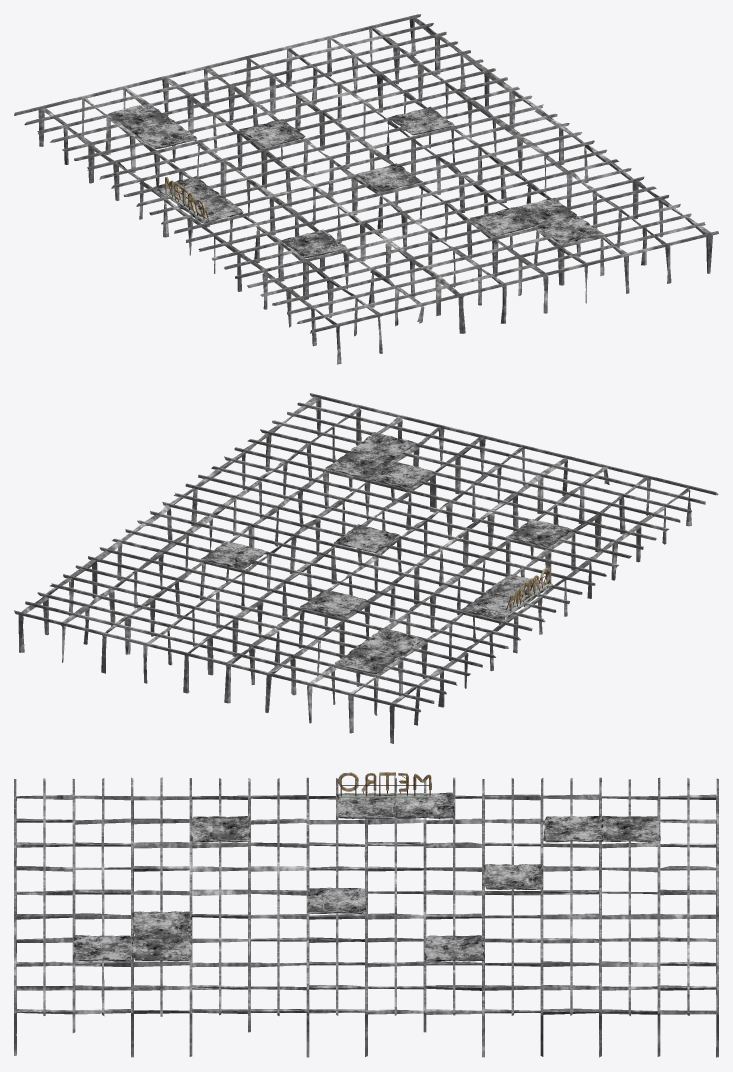
File: SM_RuinedAirportShop.glb
3 views of the same model, one above another, from view 1: azimuth 30°, elevation 25°; view 2: azimuth 150°, elevation 25°; view 3: azimuth 270°, elevation 25° (orthographic). The views are drawn at different scales.
Parts seen in each view (by area): view 1: SM_RuinedAirportShop; view 2: SM_RuinedAirportShop; view 3: SM_RuinedAirportShop.
Part boxes in pixels (box(x1,y1,x2,y2)): SM_RuinedAirportShop: box(14, 14, 718, 364); SM_RuinedAirportShop: box(14, 393, 718, 743); SM_RuinedAirportShop: box(14, 772, 718, 1057).
Size of the model in its own units: 32 by 4.46 by 40.3.
Materials: 5 (5 with a texture image).
